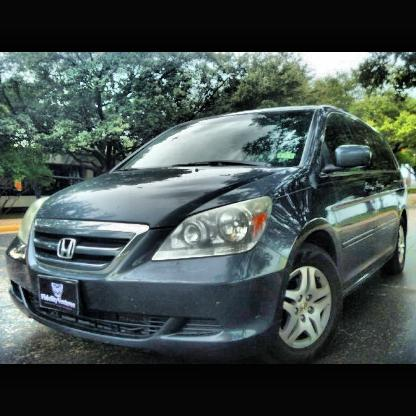Honda Odyssey Minivan 2007: (9, 107, 408, 355)
